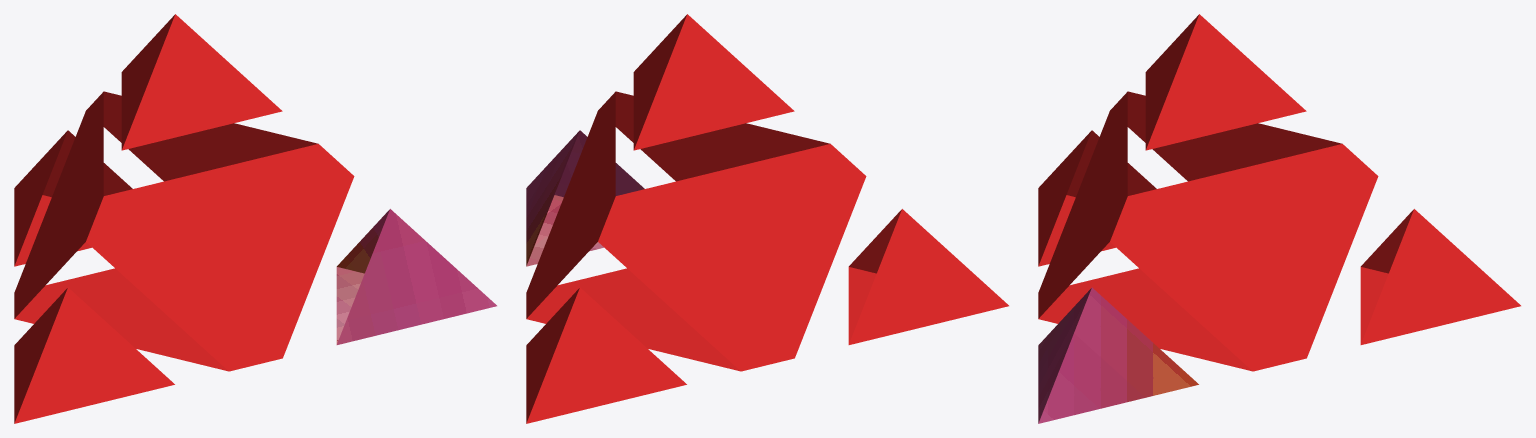
Rendered from four_corner_mine_base.glb.
3 renders of one model, left to right at view 1: azimuth 30°, elevation 25°; view 2: azimuth 150°, elevation 25°; view 3: azimuth 270°, elevation 25°, orthographic.
Visible parts, largest first — view 1: Cone.003, Cone.004, Cone.001, Cone.006, Cone, Cone.005; view 2: Cone.003, Cone.004, Cone, Cone.005, Cone.001, Cone.006; view 3: Cone.003, Cone.004, Cone, Cone.001, Cone.006, Cone.005.
Part boxes in pixels (x1,y1,x2,y2): Cone.003: [14, 91, 354, 371]; Cone.004: [121, 14, 282, 150]; Cone.001: [336, 209, 496, 344]; Cone.006: [14, 287, 174, 423]; Cone: [14, 130, 132, 266]; Cone.005: [14, 288, 67, 423]; Cone.003: [526, 91, 866, 371]; Cone.004: [633, 14, 794, 150]; Cone: [526, 287, 686, 423]; Cone.005: [848, 209, 1008, 344]; Cone.001: [526, 130, 644, 266]; Cone.006: [849, 209, 901, 273]; Cone.003: [1038, 91, 1378, 371]; Cone.004: [1145, 14, 1306, 150]; Cone: [1360, 209, 1520, 344]; Cone.001: [1038, 287, 1198, 423]; Cone.006: [1038, 130, 1091, 265]; Cone.005: [1038, 130, 1156, 266].
Size of the model in its own units: 1.73 by 1 by 1.5.
Materials: 2 (1 with a texture image).
